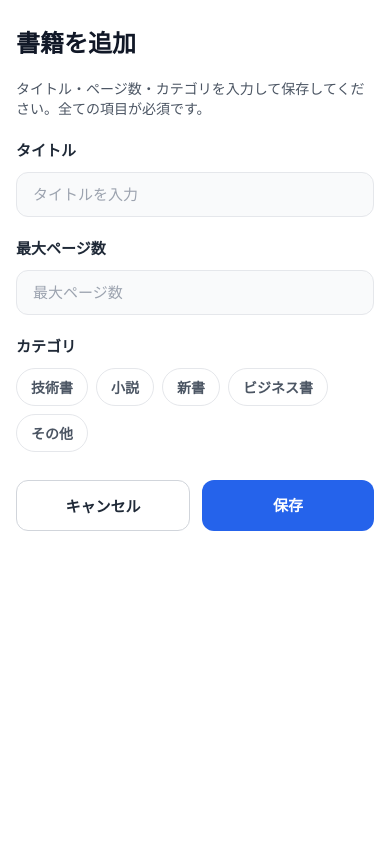
Test case: BookFormModal › 必須項目が入力されていない場合エラーメッセージを表示する
Click the button "保存".
click(288, 506)  # box left=202, top=480, right=374, bottom=531
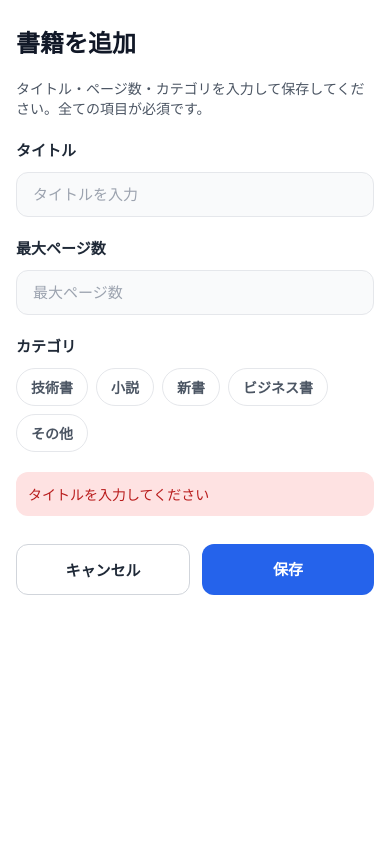
Result: the text "タイトルを入力してください" is shown at left=28, top=486, right=209, bottom=503
